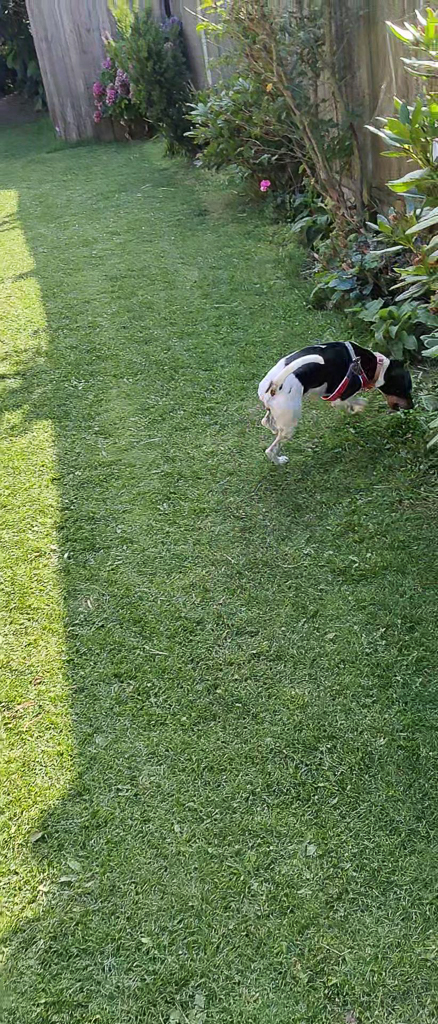Dog: (241, 329, 425, 473)
